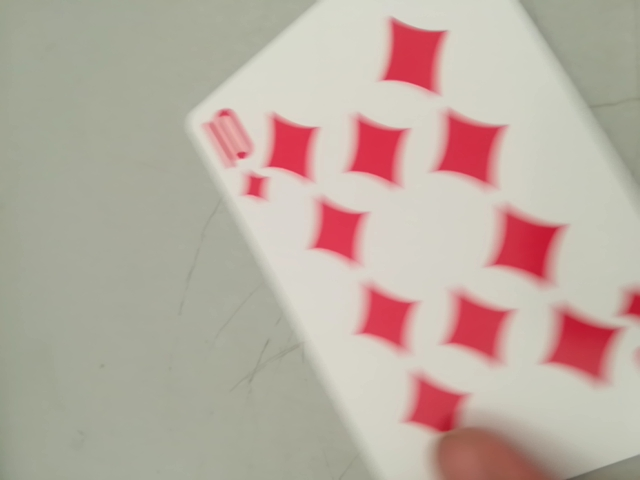fk 10: (345, 287, 627, 459), (204, 98, 286, 208)
